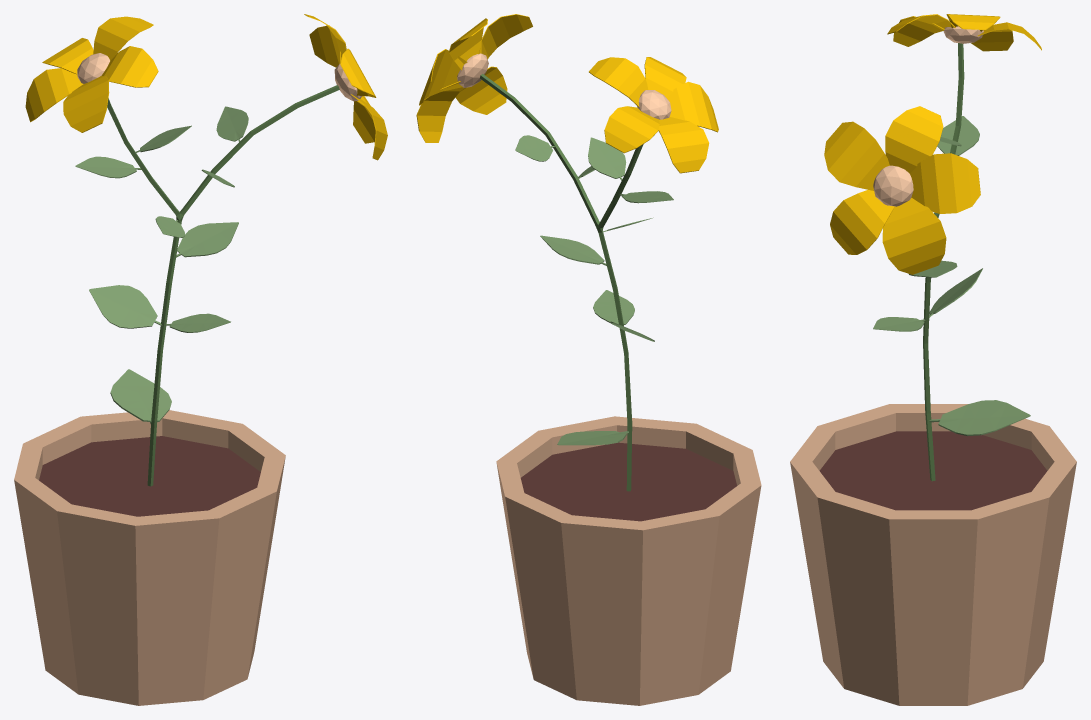
File: Plant2.fbx
The picture shows the model from 3 angles, left to right: view 1: azimuth 30°, elevation 25°; view 2: azimuth 150°, elevation 25°; view 3: azimuth 270°, elevation 25°; orthographic projection. The views are drawn at different scales.
Parts seen in each view (by area): view 1: Flower_06; view 2: Flower_06; view 3: Flower_06.
Part boxes in pixels (x1=…): Flower_06: x1=14, y1=14, x2=387, y2=705; Flower_06: x1=416, y1=14, x2=761, y2=705; Flower_06: x1=790, y1=14, x2=1076, y2=705.
Bounding box in the file's own units: 62.82 × 115 × 46.37.
